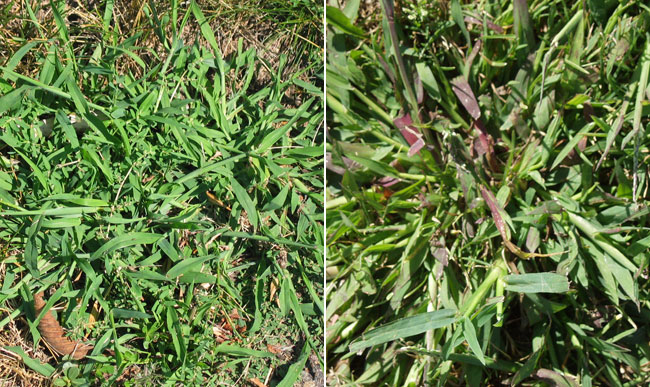crabgrass: (349, 15, 611, 387), (24, 81, 278, 313)
